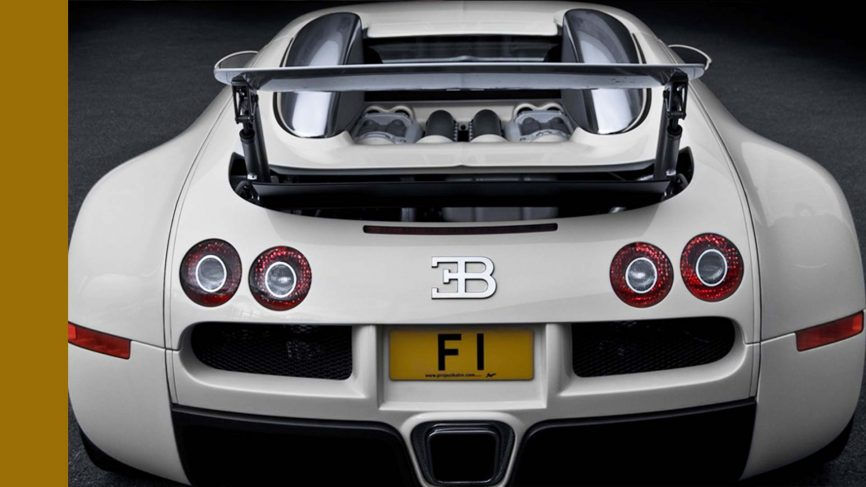number_plate: (381, 319, 541, 395)
